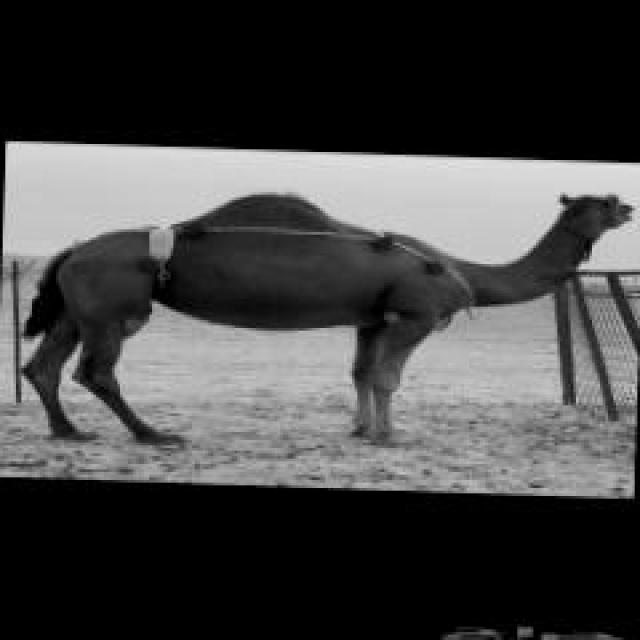Camel: (18, 189, 634, 448)
